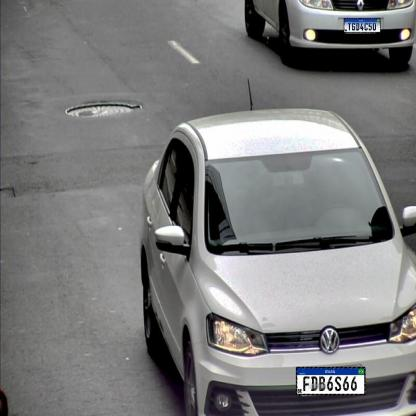PlacaM: (296, 367, 365, 395), (344, 18, 380, 33)
